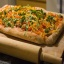pizza: (1, 4, 60, 46)
